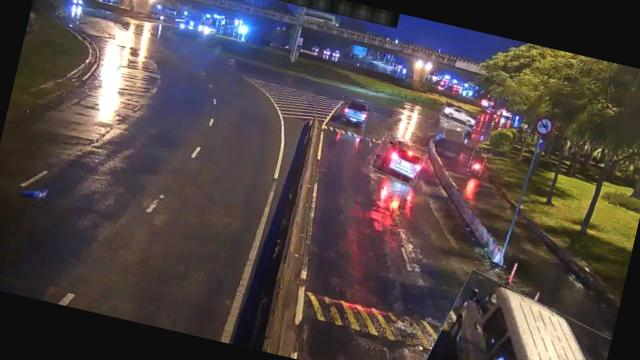Bike: (467, 148, 487, 178), (461, 128, 475, 148)
Bus: (424, 273, 617, 360)
Car: (371, 134, 428, 185), (337, 96, 371, 130), (439, 102, 478, 129)
